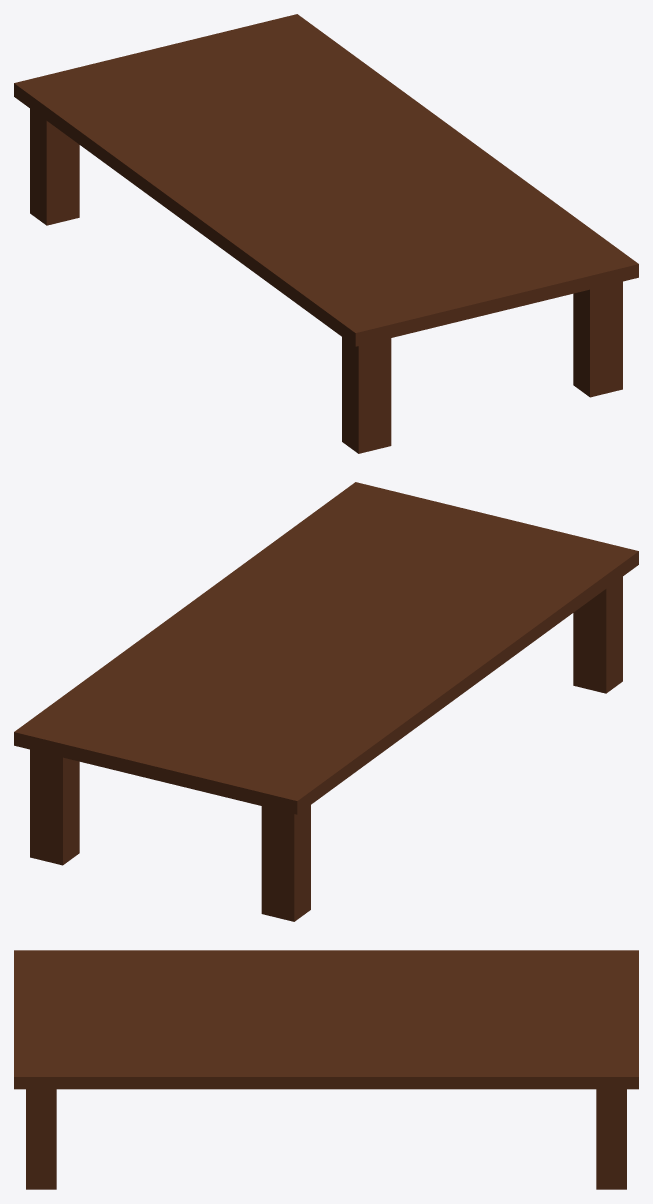
Rendered from mesinha.fbx.
3 views of the same model, one above another, from view 1: azimuth 30°, elevation 25°; view 2: azimuth 150°, elevation 25°; view 3: azimuth 270°, elevation 25° (orthographic). The views are drawn at different scales.
Visible parts, largest first — view 1: tabua, pernas, pernas.001, pernas.003; view 2: tabua, pernas.003, pernas.002, pernas; view 3: tabua, pernas.001, pernas.002.
Part boxes in pixels (left/top/right/bottom): tabua: left=14, top=14, right=638, bottom=346; pernas: left=342, top=337, right=391, bottom=453; pernas.001: left=573, top=281, right=622, bottom=397; pernas.003: left=30, top=108, right=79, bottom=225; tabua: left=14, top=482, right=638, bottom=814; pernas.003: left=261, top=805, right=310, bottom=921; pernas.002: left=30, top=749, right=79, bottom=865; pernas: left=573, top=576, right=622, bottom=693; tabua: left=14, top=950, right=638, bottom=1089; pernas.001: left=26, top=1089, right=56, bottom=1189; pernas.002: left=596, top=1089, right=626, bottom=1189.
Size of the model in its own units: 294 by 127 by 613.
